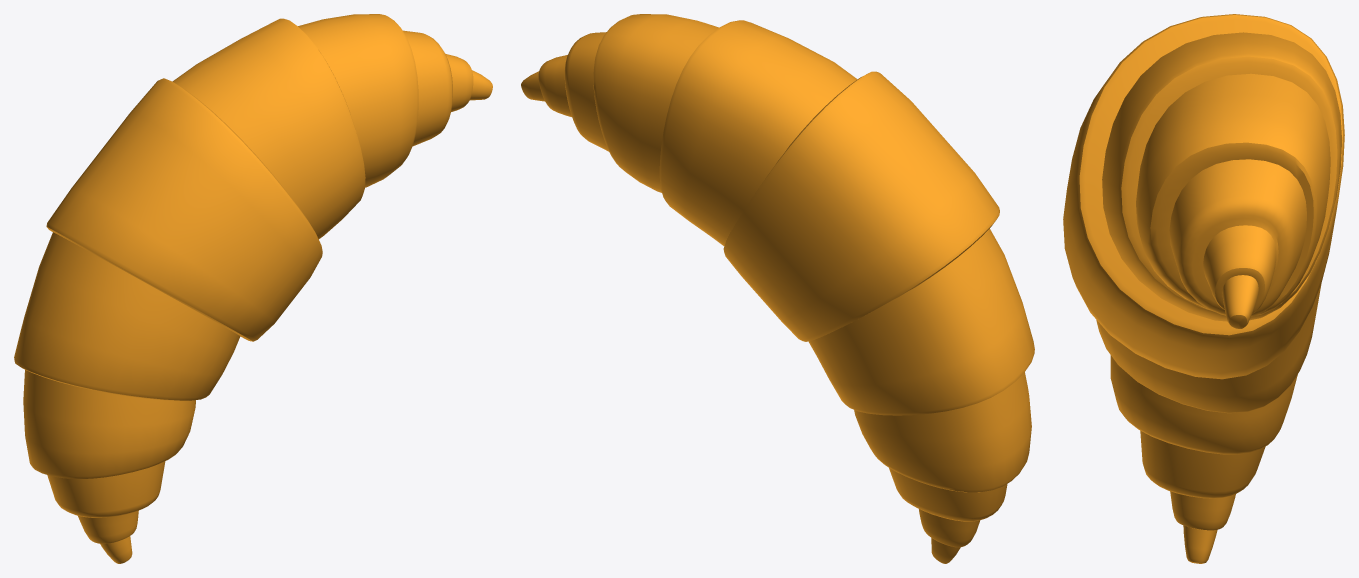
Rendered from croissant.glb.
The picture shows the model from 3 angles, left to right: view 1: azimuth 30°, elevation 25°; view 2: azimuth 150°, elevation 25°; view 3: azimuth 270°, elevation 25°; orthographic projection. The views are drawn at different scales.
Parts seen in each view (by area): view 1: Cylinder; view 2: Cylinder; view 3: Cylinder.
Boxes of the visible parts, x1=… form: Cylinder: x1=14, y1=14, x2=492, y2=563; Cylinder: x1=521, y1=14, x2=1034, y2=563; Cylinder: x1=1063, y1=14, x2=1344, y2=563.
Size of the model in its own units: 2.4 by 2.32 by 0.9306.
1 material, 1 textured.
